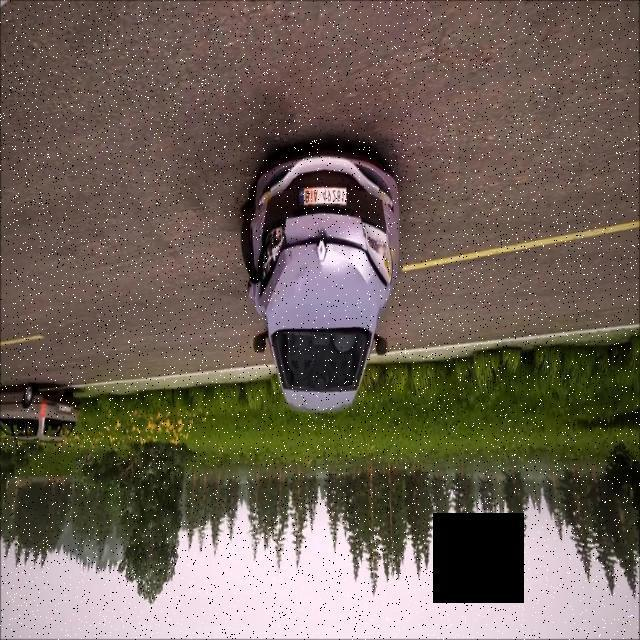vehicle: (215, 145, 443, 443)
